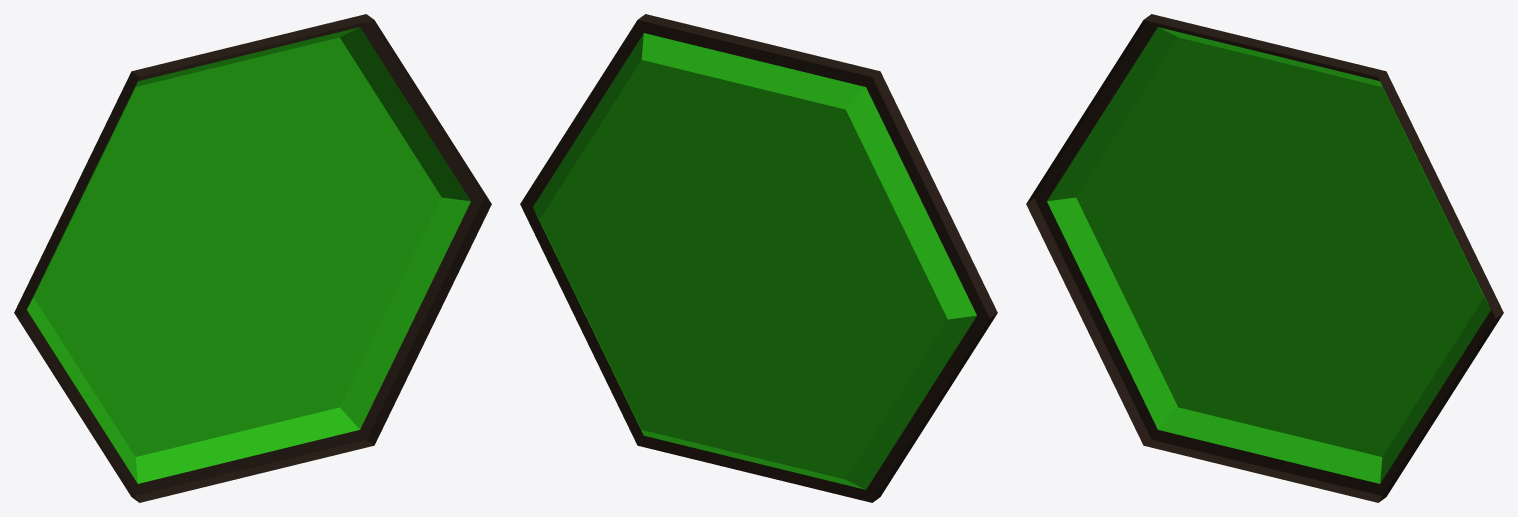
File: simpleTile.FBX
3 views of the same model, side by side, from view 1: azimuth 30°, elevation 25°; view 2: azimuth 150°, elevation 25°; view 3: azimuth 330°, elevation 25° (orthographic).
Visible parts, largest first — view 1: tail; view 2: tail; view 3: tail.
Boxes of the visible parts, left/top/right/bottom form: tail: left=14, top=14, right=491, bottom=502; tail: left=520, top=14, right=997, bottom=502; tail: left=1026, top=14, right=1503, bottom=502.
Bounding box in the file's own units: 120 × 104 × 8.54.
